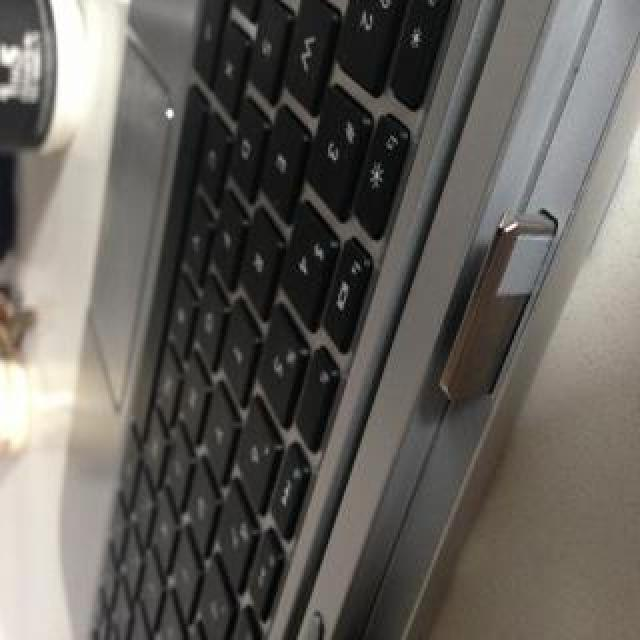laptop_computer: (83, 0, 521, 640)
